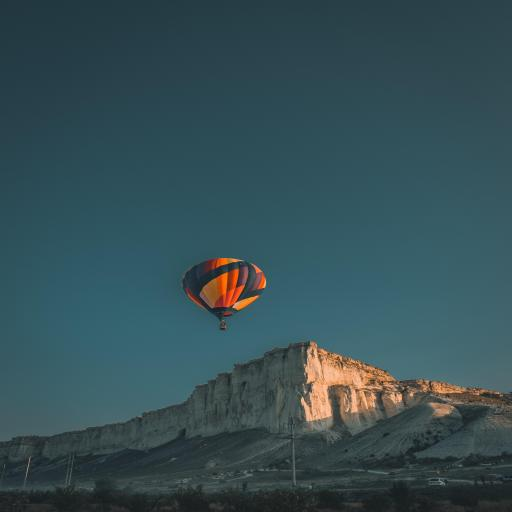hot air ballon: (177, 254, 271, 332)
